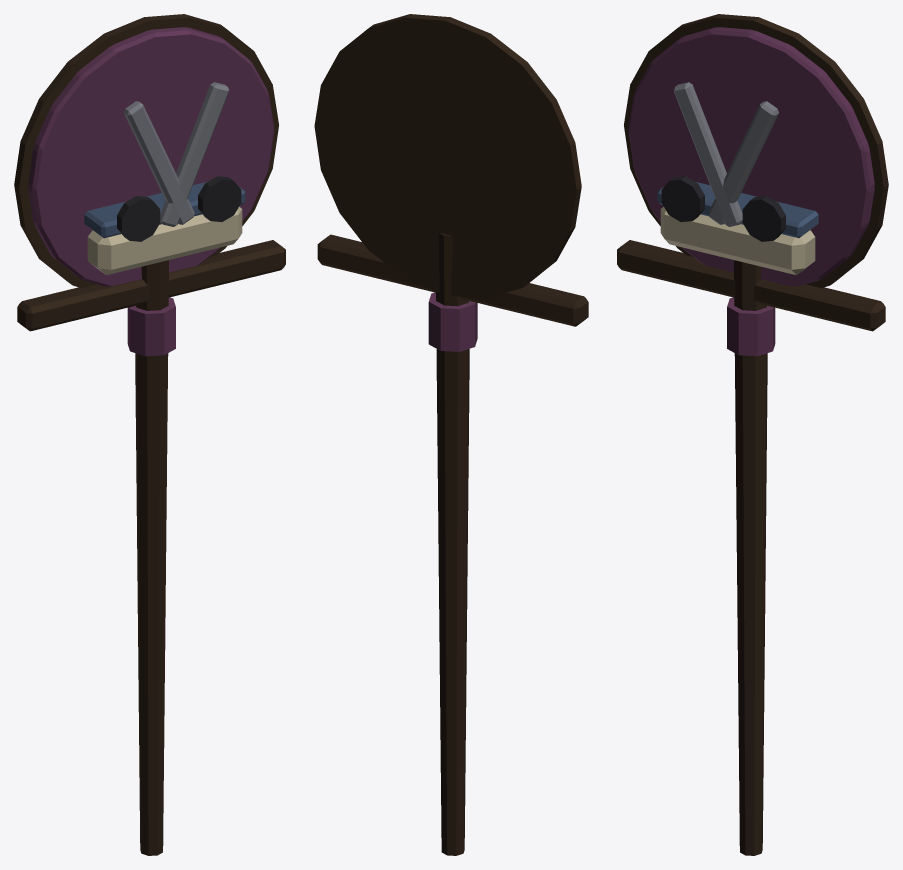
Rendered from sign_clothier.glb.
3 renders of one model, left to right at view 1: azimuth 30°, elevation 25°; view 2: azimuth 150°, elevation 25°; view 3: azimuth 330°, elevation 25°, orthographic.
Visible parts, largest first — view 1: sign_clothier; view 2: sign_clothier; view 3: sign_clothier.
Boxes of the visible parts, bbox=[...] form: sign_clothier: bbox=[14, 14, 285, 855]; sign_clothier: bbox=[314, 14, 588, 855]; sign_clothier: bbox=[617, 14, 888, 855].
Size of the model in its own units: 1.39 by 4.25 by 0.3952.
